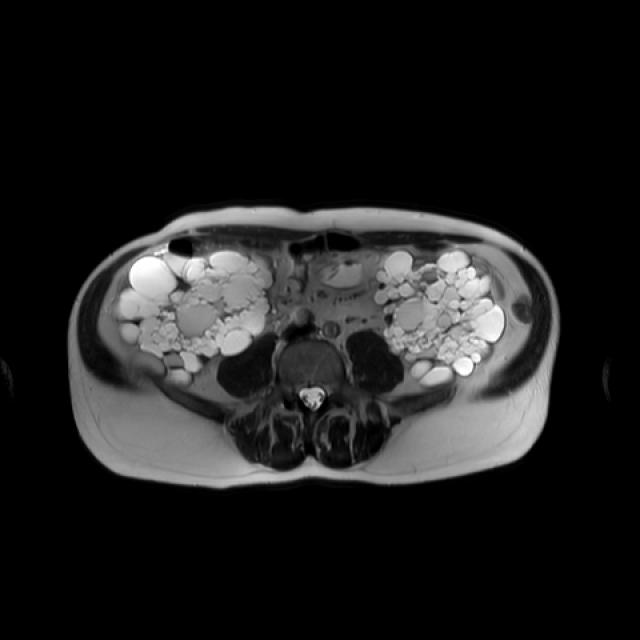sag: (111, 245, 277, 386)
sol: (373, 249, 507, 386)
